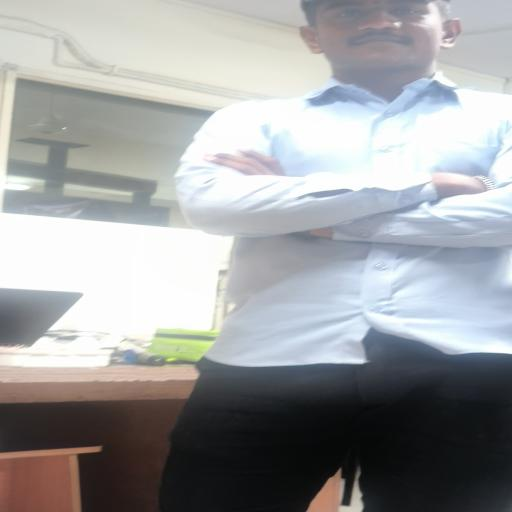survivor: (157, 0, 512, 512)
